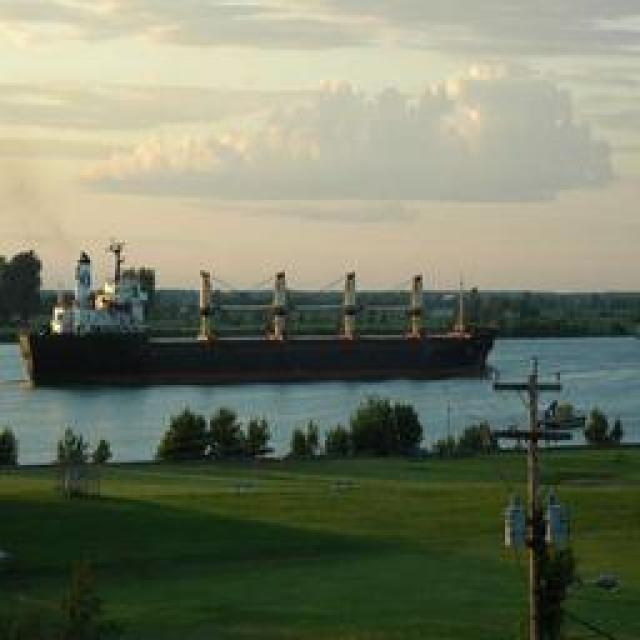ship2: (23, 240, 499, 388)
